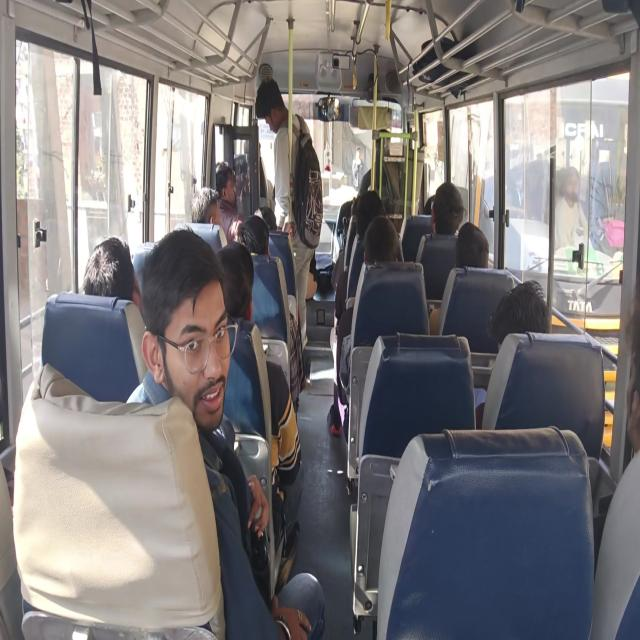person: (156, 248, 242, 423), (605, 301, 640, 479), (492, 270, 554, 342), (252, 87, 302, 167), (88, 240, 138, 314), (458, 214, 502, 292), (362, 217, 408, 284), (428, 172, 471, 238), (218, 247, 255, 296), (216, 161, 249, 210), (341, 195, 372, 244), (233, 217, 264, 258), (184, 186, 216, 224), (420, 194, 450, 233)
